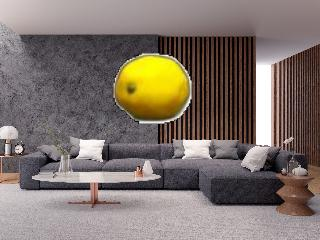lemon: (115, 56, 190, 120)
